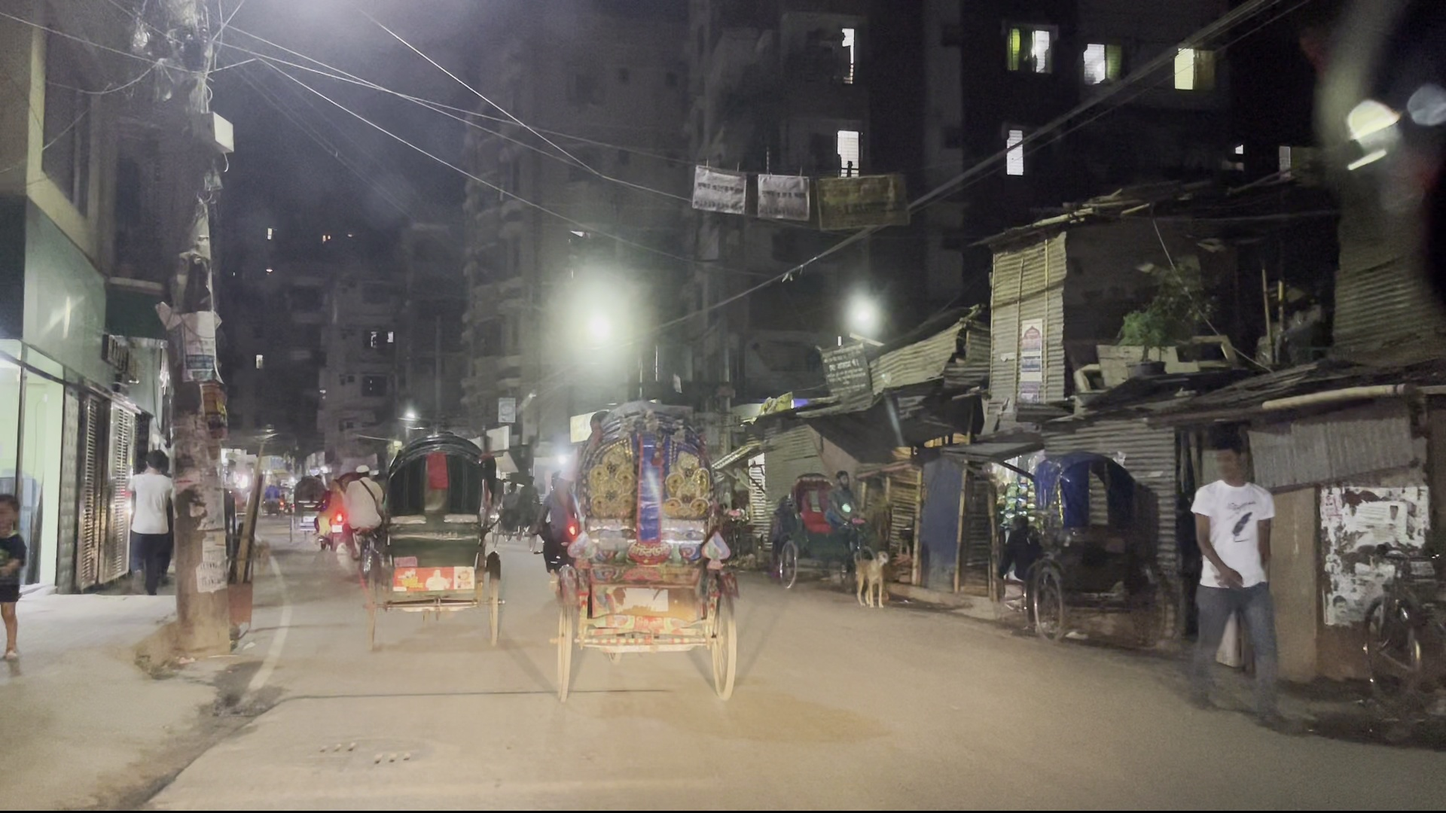car: (380, 467, 487, 627)
person: (1179, 455, 1278, 693), (104, 440, 234, 614), (1, 492, 48, 664), (818, 469, 872, 565), (546, 473, 585, 571), (503, 469, 545, 541)
